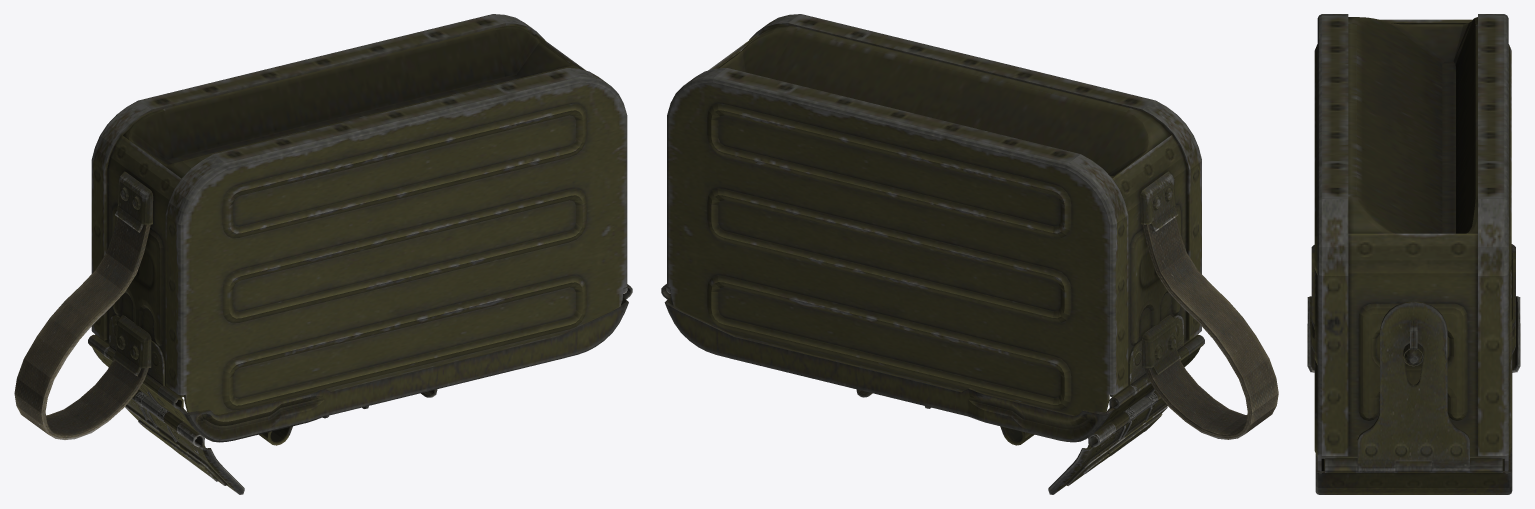
The picture shows the model from 3 angles, left to right: view 1: azimuth 30°, elevation 25°; view 2: azimuth 150°, elevation 25°; view 3: azimuth 270°, elevation 25°; orthographic projection. The views are drawn at different scales.
Visible parts, largest first — view 1: TW_646372518610c40fc20204e8_PZ_Import; view 2: TW_646372518610c40fc20204e8_PZ_Import; view 3: TW_646372518610c40fc20204e8_PZ_Import.
Boxes of the visible parts, box(x1,y1,x2,y2) form: TW_646372518610c40fc20204e8_PZ_Import: box(14, 14, 632, 494); TW_646372518610c40fc20204e8_PZ_Import: box(661, 14, 1278, 494); TW_646372518610c40fc20204e8_PZ_Import: box(1307, 14, 1520, 494).
Size of the model in its own units: 0.1828 by 0.055 by 0.1.
1 material, 1 textured.
